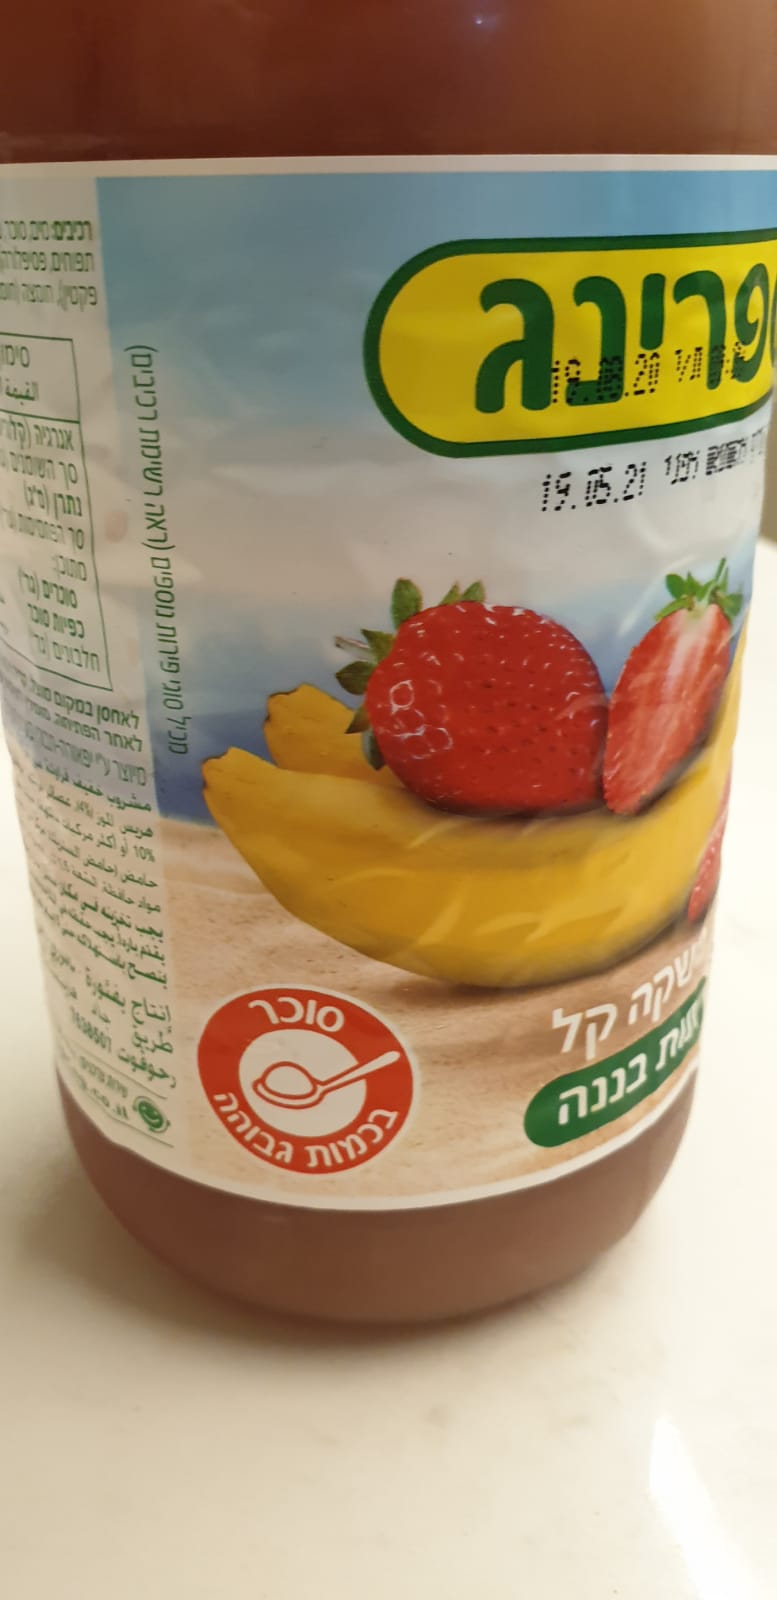sugar: (197, 985, 420, 1180)
